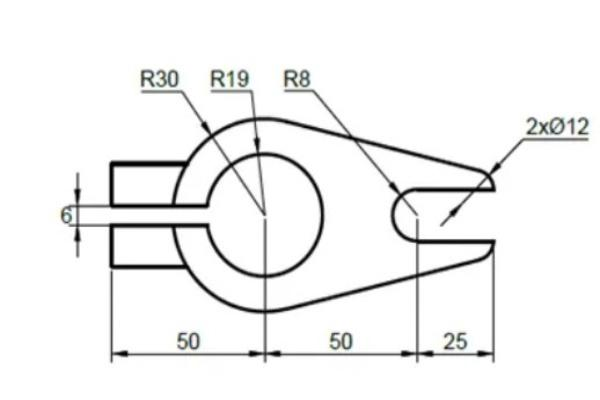dimensions: (524, 104, 596, 141), (126, 62, 187, 91), (162, 326, 213, 354), (319, 324, 366, 352), (208, 61, 253, 90), (276, 63, 319, 89), (440, 326, 472, 353), (56, 200, 80, 228)
